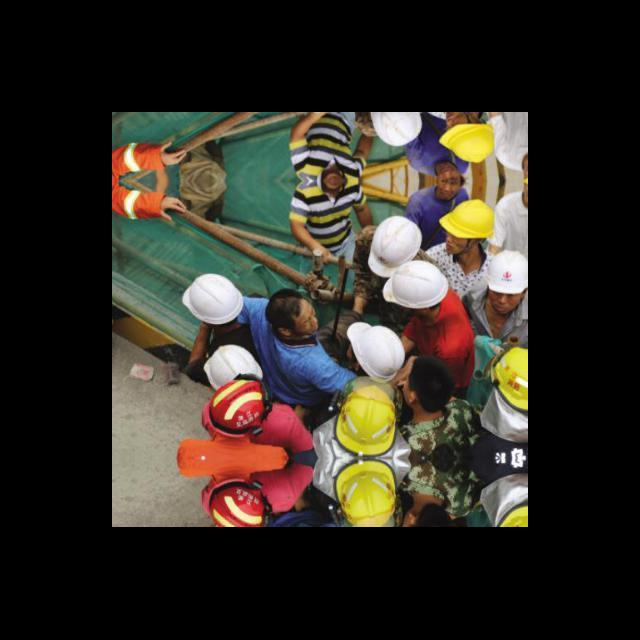Hardhat: (455, 250, 528, 346), (425, 197, 495, 295), (327, 384, 402, 462), (176, 258, 249, 329), (343, 314, 407, 388), (335, 462, 396, 528), (368, 215, 426, 282), (381, 262, 448, 309), (211, 380, 265, 433), (206, 343, 264, 389), (488, 347, 528, 413), (439, 198, 496, 243), (438, 124, 496, 164), (209, 488, 266, 528), (484, 251, 528, 296), (369, 112, 422, 146), (495, 504, 528, 528)
NO-Hardhat: (409, 359, 451, 406), (265, 288, 302, 325), (411, 510, 453, 528), (437, 174, 468, 188)
NO-Mask: (305, 321, 320, 338), (444, 112, 464, 122), (402, 387, 413, 403)
NO-Safety Vest: (254, 322, 318, 406), (406, 313, 474, 381), (406, 465, 478, 512), (411, 415, 475, 466), (410, 117, 468, 170), (303, 190, 353, 249), (468, 299, 528, 345), (239, 467, 297, 512), (416, 192, 464, 243), (438, 253, 486, 299), (308, 115, 350, 167), (247, 410, 295, 453), (217, 311, 254, 357), (360, 246, 387, 305), (495, 198, 528, 245), (494, 112, 528, 156)
Person: (232, 281, 353, 411), (381, 260, 473, 387), (353, 213, 433, 327), (398, 359, 481, 463), (177, 273, 264, 371), (199, 381, 315, 452), (202, 465, 315, 528), (289, 185, 373, 263), (288, 112, 370, 184), (396, 461, 478, 527), (407, 166, 468, 246), (344, 313, 407, 388), (407, 112, 473, 174), (432, 112, 496, 161), (112, 138, 185, 180), (112, 184, 185, 226), (489, 188, 528, 253), (484, 115, 528, 172)
